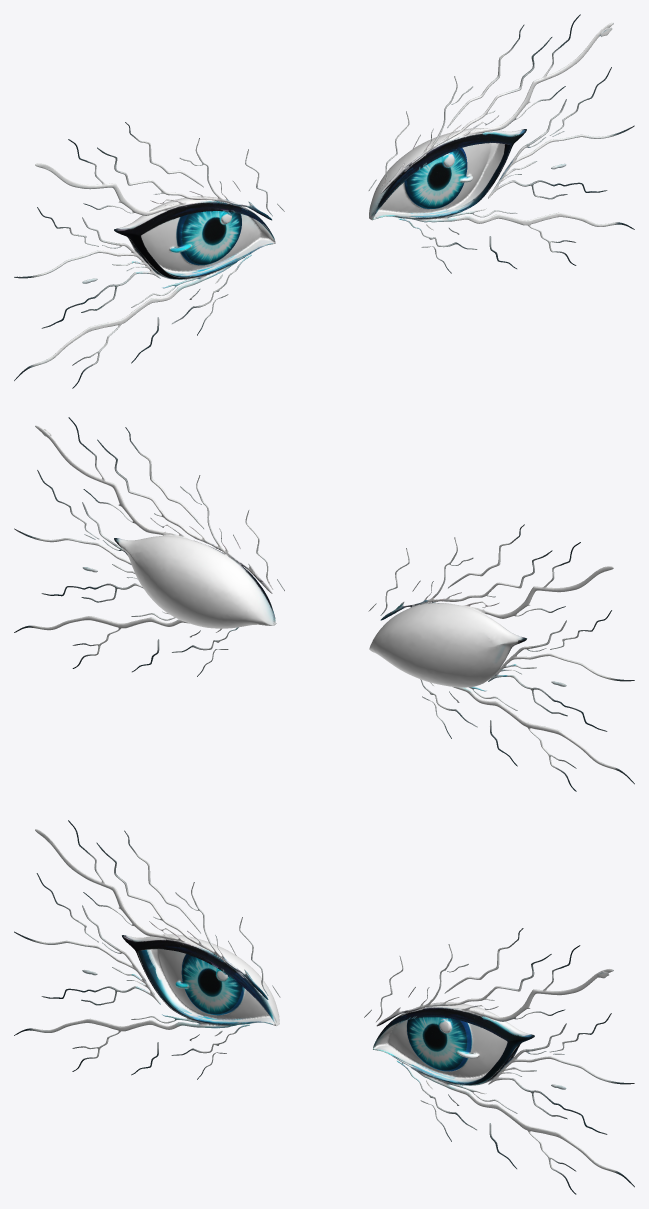
File: elektrik.glb
The picture shows the model from 3 angles, top to bottom: view 1: azimuth 30°, elevation 25°; view 2: azimuth 150°, elevation 25°; view 3: azimuth 330°, elevation 25°; orthographic projection.
Size of the model in its own units: 1.9 by 0.7432 by 0.1353.
Materials: 1 (1 with a texture image).
